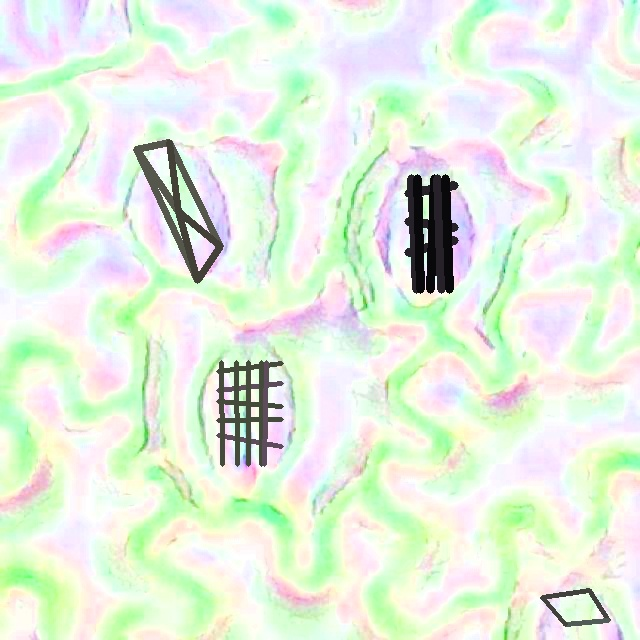open: (134, 139, 223, 283), (216, 360, 283, 466), (404, 174, 458, 293), (541, 589, 610, 625)
